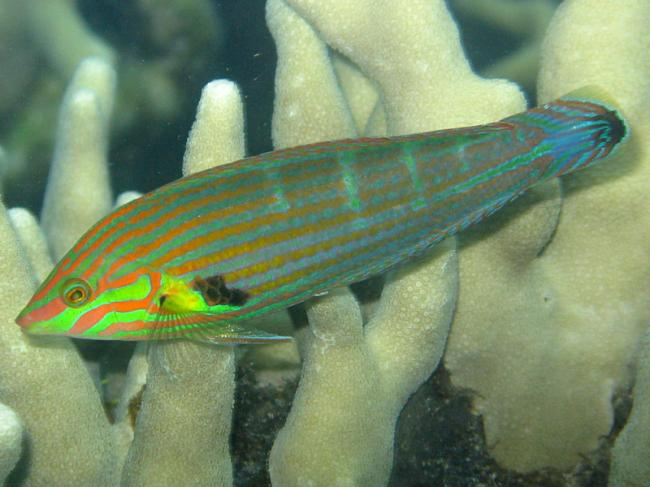fish: (15, 82, 636, 373)
